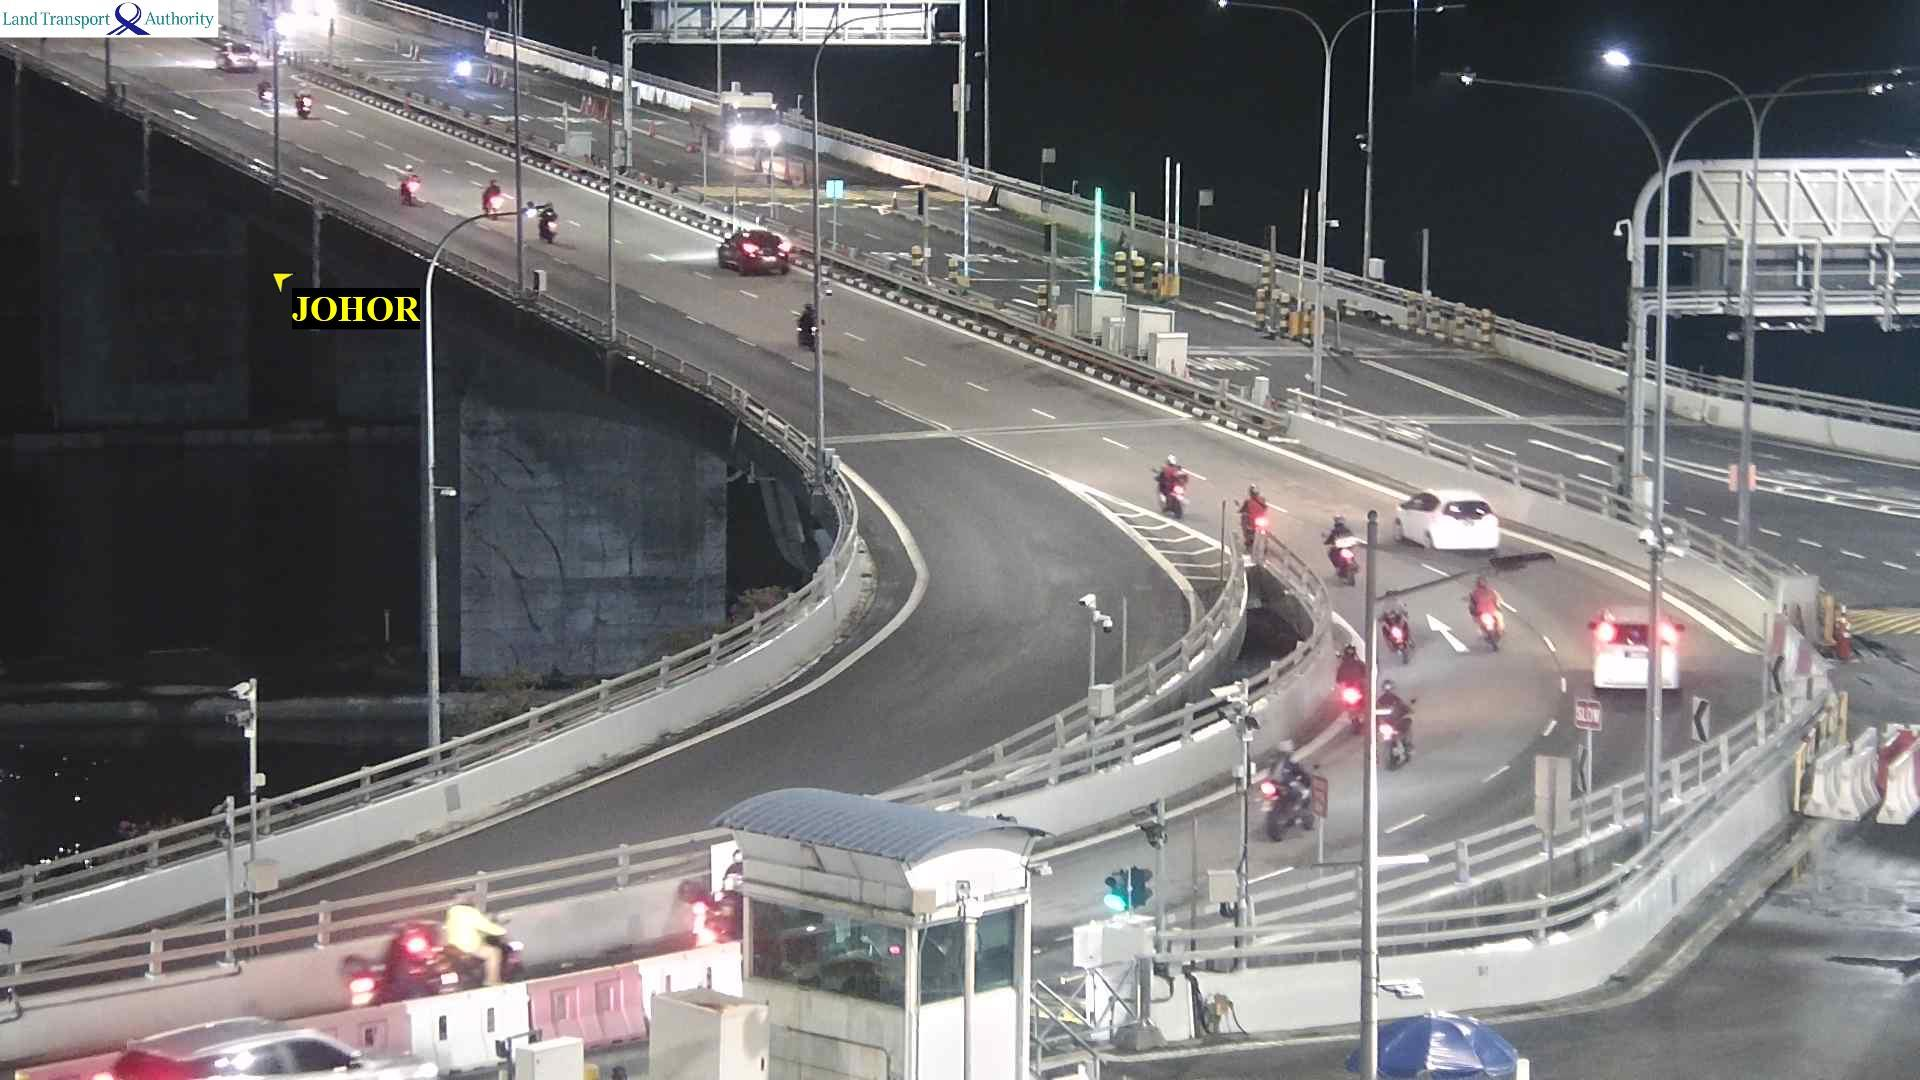vehicle-secondlink-johor: (116, 1018, 438, 1080), (442, 892, 523, 986), (1392, 489, 1500, 556), (348, 926, 436, 1000), (682, 850, 743, 941), (1261, 741, 1313, 833), (1315, 513, 1360, 584), (1379, 686, 1419, 764), (1150, 453, 1197, 518), (1467, 573, 1505, 652), (719, 231, 787, 273), (1376, 587, 1412, 664), (1334, 646, 1362, 724), (1237, 482, 1267, 541), (215, 42, 253, 75), (393, 163, 421, 205), (798, 300, 815, 345), (540, 201, 558, 242), (482, 178, 498, 215), (295, 85, 311, 117), (259, 81, 274, 106)
vehicle-secondlink-singapore: (692, 90, 780, 158), (450, 48, 469, 86)
